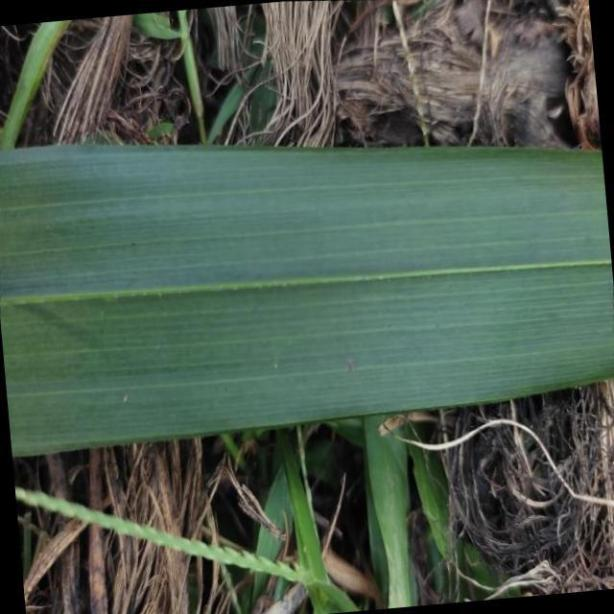Healthy: (0, 144, 614, 457)
